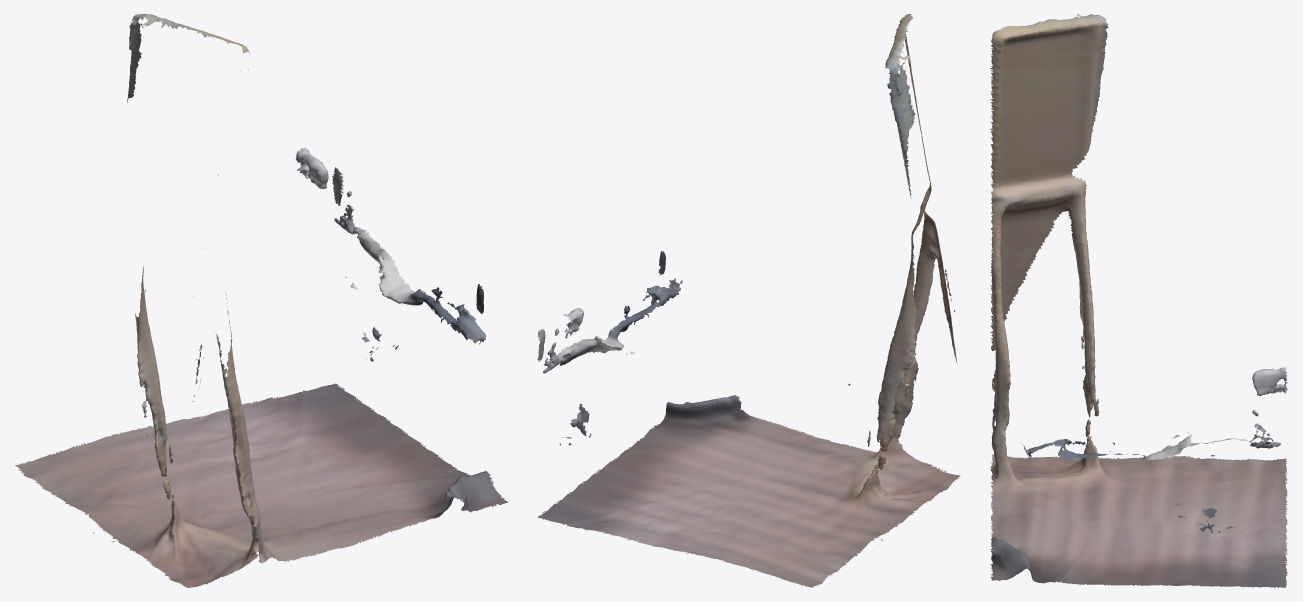
File: apartment-full-24-fa24e5a86339.glb
3 renders of one model, left to right at view 1: azimuth 30°, elevation 25°; view 2: azimuth 150°, elevation 25°; view 3: azimuth 270°, elevation 25°, orthographic. The views are drawn at different scales.
Size of the model in its own units: 1 by 1.66 by 0.943.
